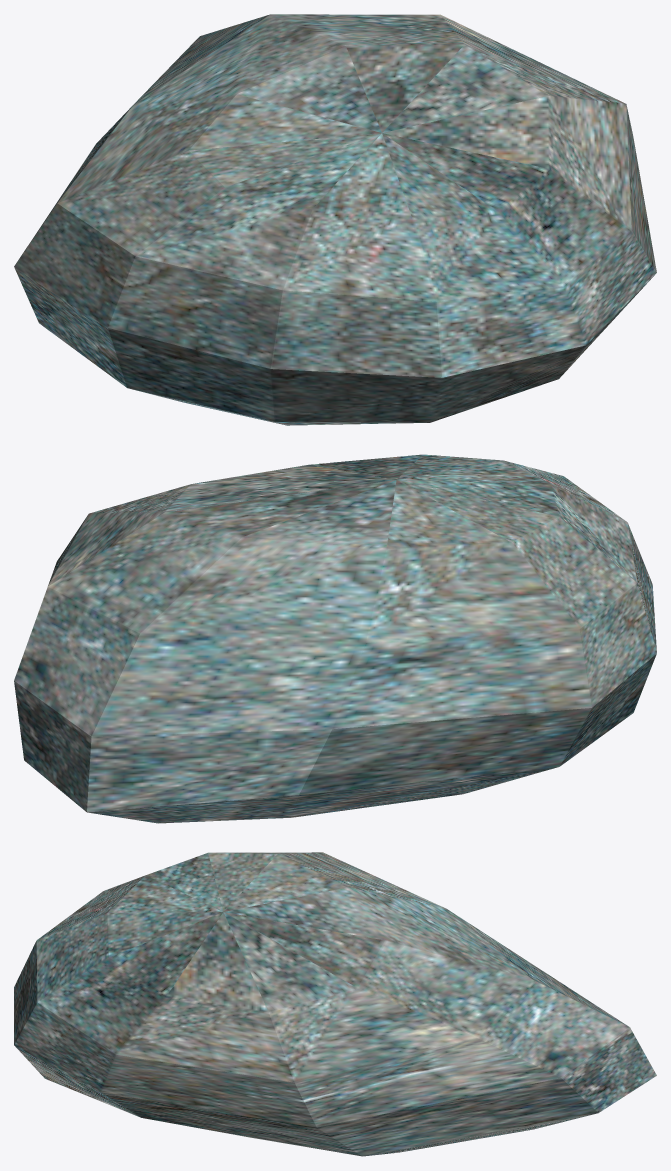
The model's file is Rock_C.fbx.
The picture shows the model from 3 angles, top to bottom: view 1: azimuth 30°, elevation 25°; view 2: azimuth 150°, elevation 25°; view 3: azimuth 270°, elevation 25°; orthographic projection. The views are drawn at different scales.
Parts seen in each view (by area): view 1: pSphere1; view 2: pSphere1; view 3: pSphere1.
Part boxes in pixels (x1,y1,x2,y2): pSphere1: [14, 14, 656, 425]; pSphere1: [14, 454, 656, 823]; pSphere1: [14, 852, 656, 1156].
Bounding box in the file's own units: 4.78 × 1.85 × 5.6.
Materials: 1 (1 with a texture image).
